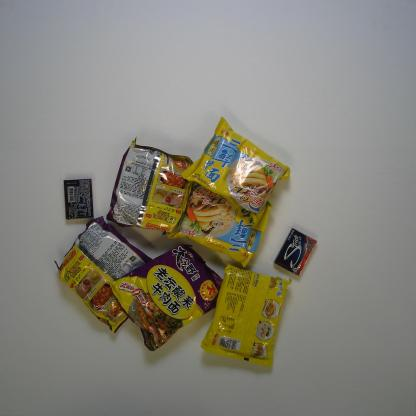Gum: (273, 227, 318, 277), (62, 177, 94, 221)
Instant Noodles: (108, 242, 223, 353), (52, 214, 154, 335), (180, 115, 290, 225), (200, 262, 292, 368), (165, 180, 273, 270), (106, 135, 196, 236)
